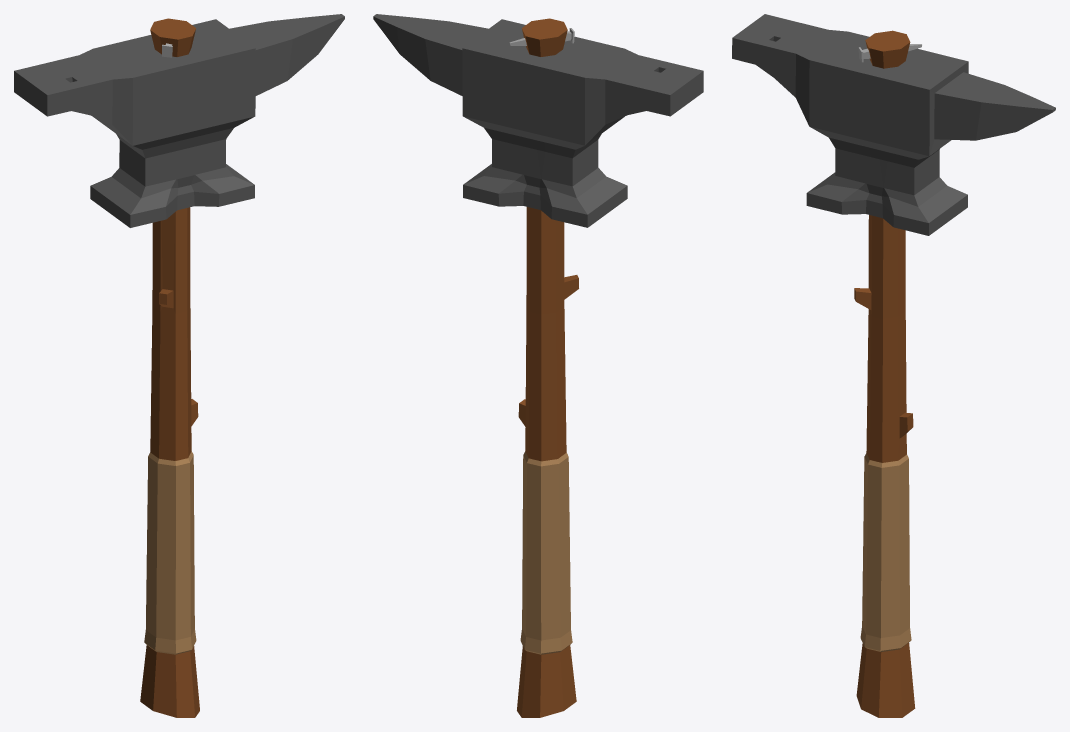
File: Anvil Hammer.fbx
3 renders of one model, left to right at view 1: azimuth 30°, elevation 25°; view 2: azimuth 150°, elevation 25°; view 3: azimuth 330°, elevation 25°, orthographic. The views are drawn at different scales.
Visible parts, largest first — view 1: Anvil Hammer.001, Anvil Hammer; view 2: Anvil Hammer.001, Anvil Hammer; view 3: Anvil Hammer.001, Anvil Hammer.
Boxes of the visible parts, left/top/right/bottom form: Anvil Hammer.001: left=14, top=14, right=344, bottom=227; Anvil Hammer: left=140, top=207, right=199, bottom=717; Anvil Hammer.001: left=373, top=14, right=703, bottom=227; Anvil Hammer: left=517, top=207, right=578, bottom=717; Anvil Hammer.001: left=732, top=14, right=1055, bottom=235; Anvil Hammer: left=854, top=215, right=915, bottom=717.
Bounding box in the file's own units: 96.3 × 201 × 21.3.
